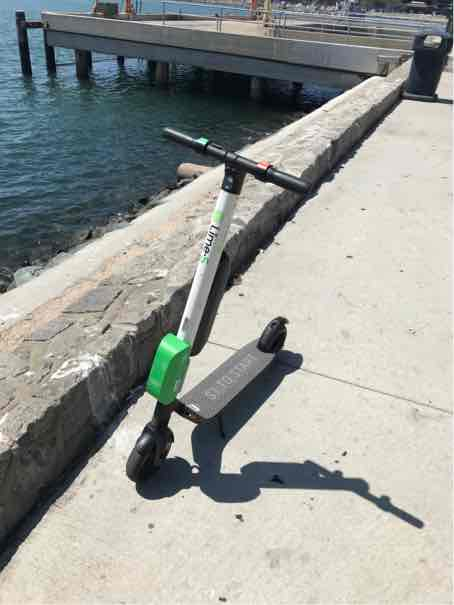scooter: (136, 120, 320, 505)
